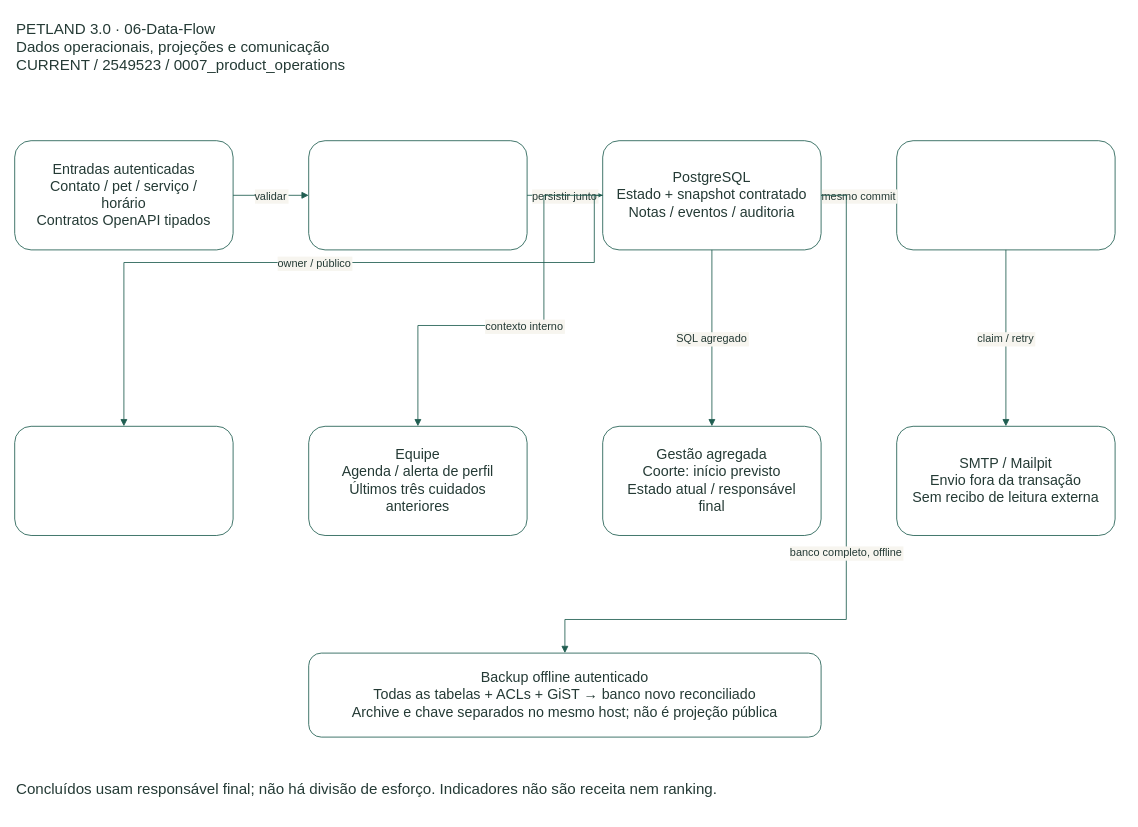
The diagram is 1138 pixels wide and 827 high, and some of its shapes have lost their labels. Each missing label, with the centre of its shape:
"Casos de uso / domínio Propriedade e regras Transação por mutação" goes at pixel 417 195.
"Outbox privada Destinatário / corpo / prazo Lease / tentativas / supressão" goes at pixel 1005 195.
"Tutor Seus pets / reservas / resumo Estado local da comunicação" goes at pixel 123 480.
